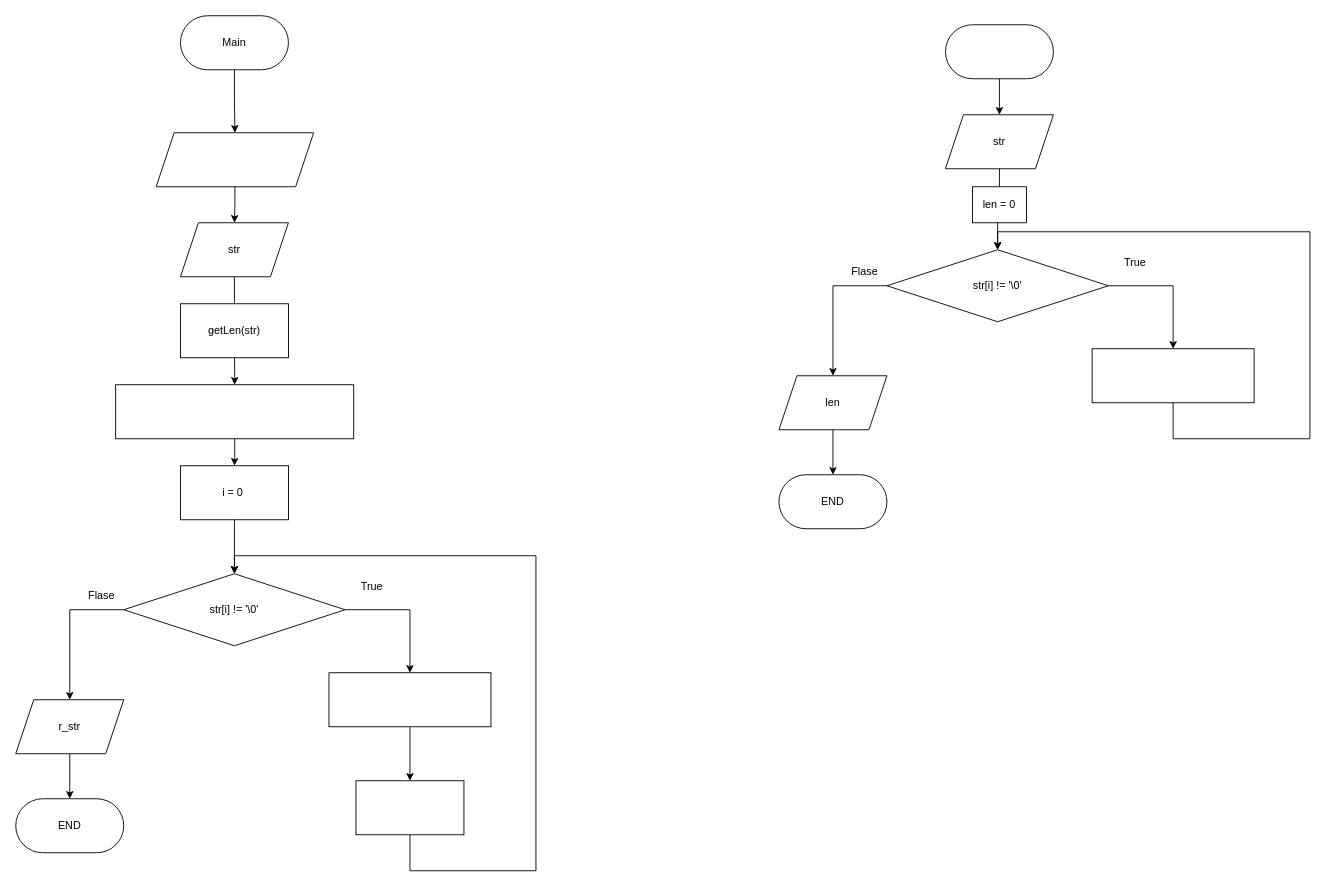
Image size: 1333x894. Some labels were removed from this diagram. Each missing label, with the centre of its shape:
"Enter a string" belongs at [234,159].
"getLen" belongs at [999,51].
"i = i + 1 len = len - 1" belongs at [409,807].
"len = len + 1" belongs at [1172,375].
"r_str <-- empty string with length `len`" belongs at [234,411].
"r_str[i] = str[len]" belongs at [409,699].
